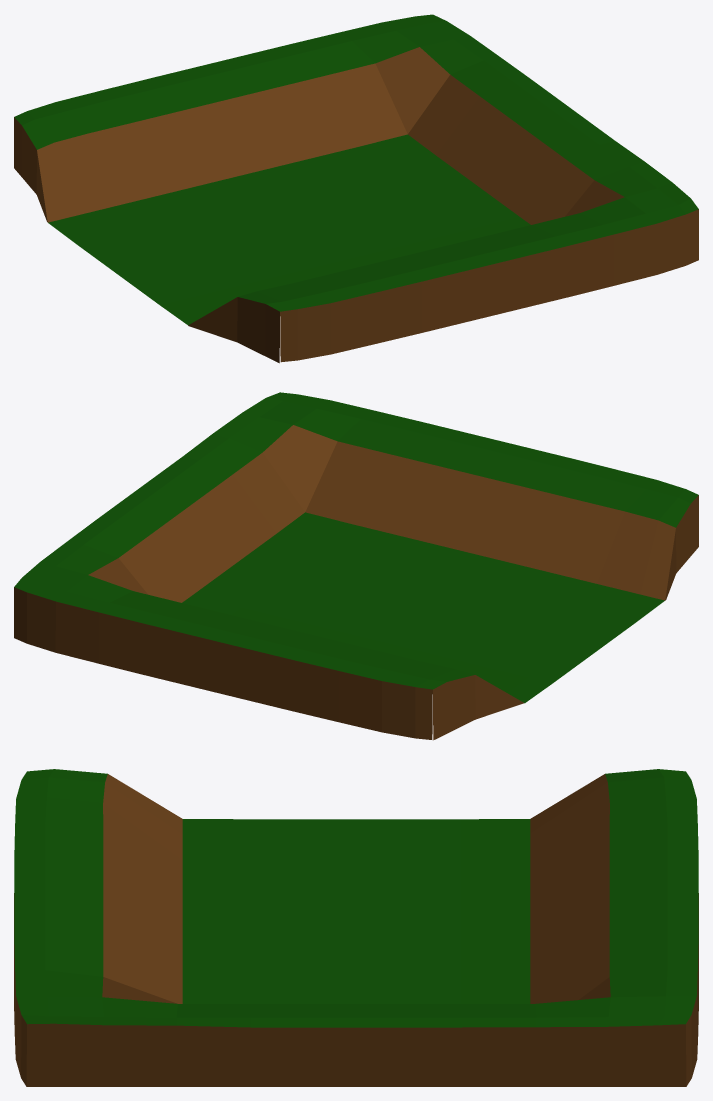
File: 3Andar.fbx
3 renders of one model, top to bottom at view 1: azimuth 30°, elevation 25°; view 2: azimuth 150°, elevation 25°; view 3: azimuth 270°, elevation 25°, orthographic. The views are drawn at different scales.
Visible parts, largest first — view 1: 3Andar; view 2: 3Andar; view 3: 3Andar.
Boxes of the visible parts, x1=… form: 3Andar: x1=14, y1=14, x2=698, y2=363; 3Andar: x1=14, y1=392, x2=698, y2=740; 3Andar: x1=14, y1=769, x2=698, y2=1086.
Bounding box in the file's own units: 1703 × 197 × 1793.
